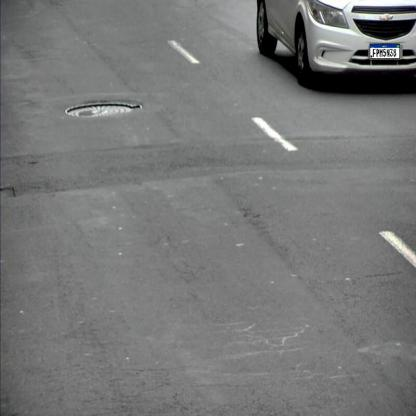PlacaM: (370, 44, 400, 59)
